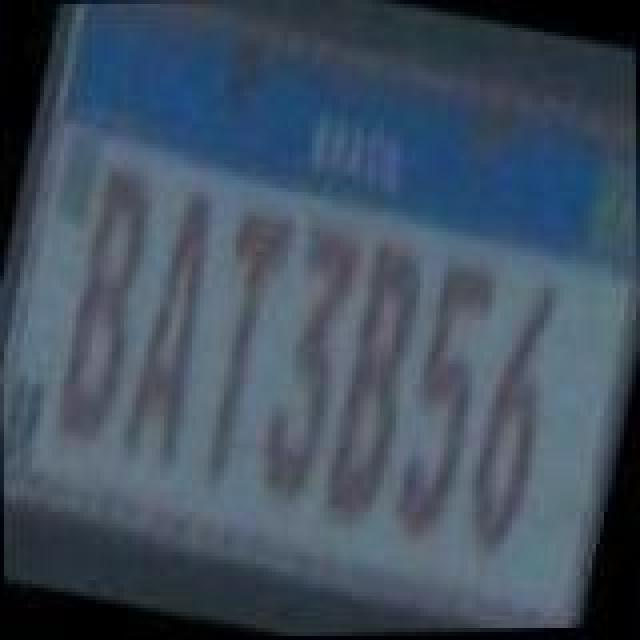3: (244, 214, 372, 514)
5: (382, 256, 510, 552)
6: (450, 278, 578, 566)
A: (112, 178, 240, 478)
B: (314, 236, 442, 532), (40, 164, 168, 456)
T: (178, 206, 302, 498)
